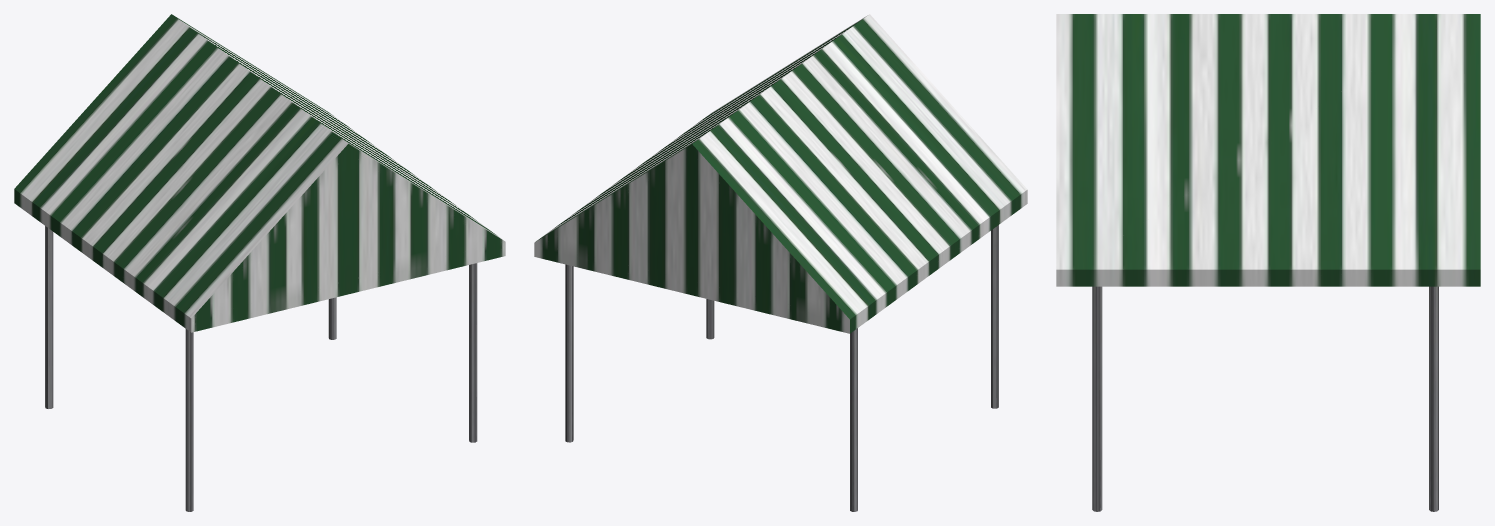
File: Tent.fbx
3 renders of one model, left to right at view 1: azimuth 30°, elevation 25°; view 2: azimuth 150°, elevation 25°; view 3: azimuth 270°, elevation 25°, orthographic. The views are drawn at different scales.
Visible parts, largest first — view 1: Tent, TentLeg; view 2: Tent, TentLeg; view 3: Tent, TentLeg.
Part boxes in pixels (box(x1,y1,x2,y2)): Tent: box(14, 14, 505, 332); TentLeg: box(45, 226, 477, 511); Tent: box(534, 14, 1027, 333); TentLeg: box(565, 225, 998, 511); Tent: box(1056, 14, 1480, 286); TentLeg: box(1092, 286, 1438, 511).
Size of the model in its own units: 475 by 463 by 498.
